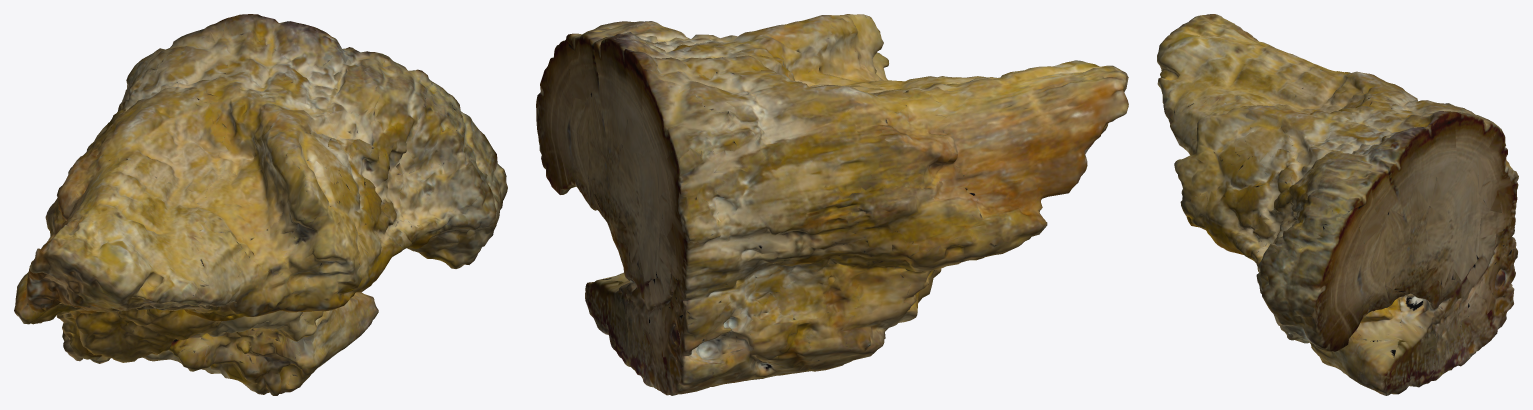
The model's file is petrified_wood.glb.
The picture shows the model from 3 angles, left to right: view 1: azimuth 30°, elevation 25°; view 2: azimuth 150°, elevation 25°; view 3: azimuth 270°, elevation 25°; orthographic projection. The views are drawn at different scales.
Parts seen in each view (by area): view 1: Wood; view 2: Wood; view 3: Wood.
Part boxes in pixels (x1=…): Wood: x1=14, y1=14, x2=507, y2=395; Wood: x1=536, y1=14, x2=1128, y2=395; Wood: x1=1157, y1=14, x2=1518, y2=395.
Bounding box in the file's own units: 1.38 × 0.8018 × 0.9858.
1 material, 1 textured.
